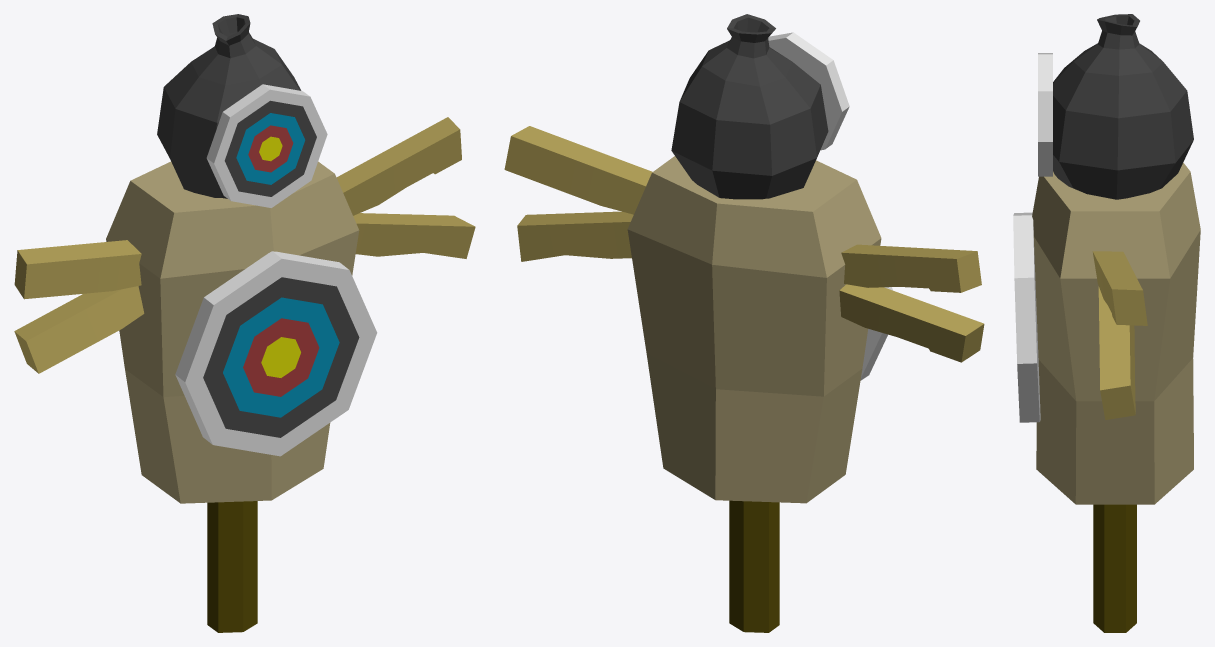
The model's file is Training Dummy ampota.fbx.
3 renders of one model, left to right at view 1: azimuth 30°, elevation 25°; view 2: azimuth 150°, elevation 25°; view 3: azimuth 270°, elevation 25°, orthographic.
Parts seen in each view (by area): view 1: pCylinder6, Targetlock:pCylinder1, Garbage_Bag8, pCylinder1, pCube35, pCube37, pCube10, pCube36; view 2: pCylinder6, Garbage_Bag8, pCube10, pCube37, pCube35, pCube36, pCylinder1, Targetlock:pCylinder1; view 3: pCylinder6, Garbage_Bag8, Targetlock:pCylinder1, pCube36, pCube10, pCylinder1.
Boxes of the visible parts, bbox=[...] form: pCylinder6: bbox=[106, 161, 359, 632]; Targetlock:pCylinder1: bbox=[175, 251, 377, 456]; Garbage_Bag8: bbox=[157, 14, 301, 198]; pCylinder1: bbox=[206, 84, 327, 207]; pCube35: bbox=[14, 240, 141, 299]; pCube37: bbox=[14, 286, 144, 373]; pCube10: bbox=[336, 117, 461, 215]; pCube36: bbox=[353, 213, 475, 258]; pCylinder6: bbox=[627, 156, 881, 632]; Garbage_Bag8: bbox=[671, 14, 828, 199]; pCube10: bbox=[504, 126, 652, 214]; pCube37: bbox=[839, 284, 984, 362]; pCube35: bbox=[841, 244, 981, 292]; pCube36: bbox=[517, 211, 633, 261]; pCylinder1: bbox=[768, 32, 849, 150]; Targetlock:pCylinder1: bbox=[860, 287, 892, 380]; pCylinder6: bbox=[1032, 162, 1200, 632]; Garbage_Bag8: bbox=[1053, 14, 1193, 199]; Targetlock:pCylinder1: bbox=[1013, 212, 1040, 422]; pCube36: bbox=[1098, 286, 1135, 419]; pCube10: bbox=[1092, 251, 1147, 325]; pCylinder1: bbox=[1038, 53, 1052, 176].
Size of the model in its own units: 4.02 by 5.1 by 1.43.
